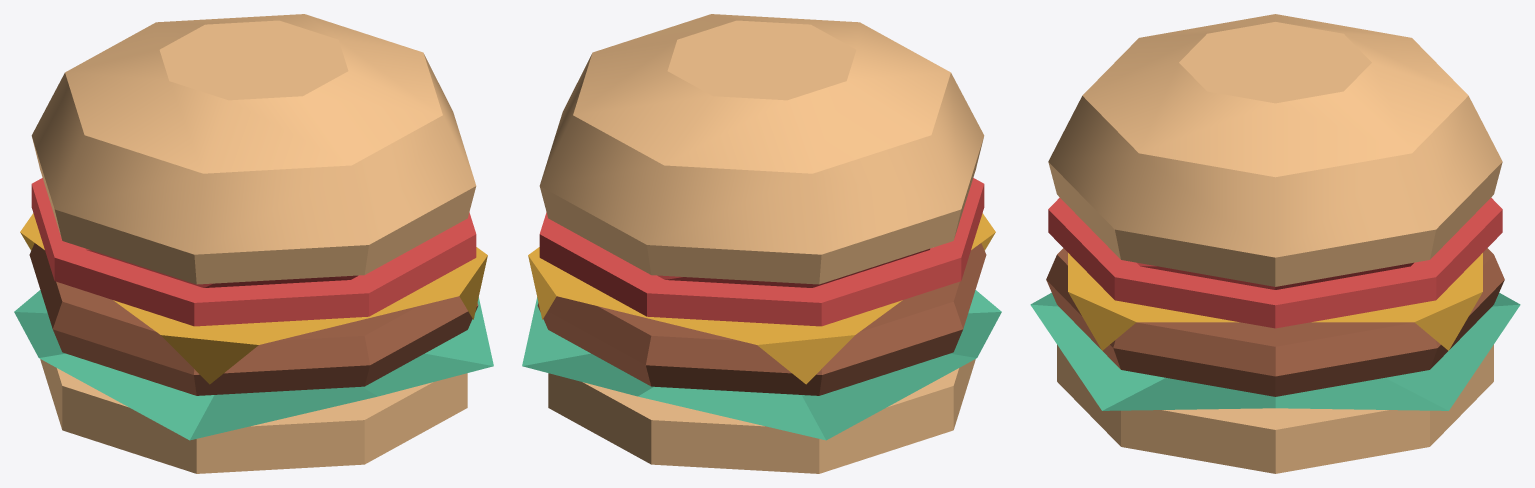
Rendered from burger.obj.
The picture shows the model from 3 angles, left to right: view 1: azimuth 30°, elevation 25°; view 2: azimuth 150°, elevation 25°; view 3: azimuth 270°, elevation 25°; orthographic projection.
Visible parts, largest first — view 1: bunTop, patty, bunBottom, tomato, salad, cheese; view 2: bunTop, patty, bunBottom, tomato, salad, cheese; view 3: bunTop, patty, tomato, bunBottom, salad, cheese.
Part boxes in pixels (bbox=[...]): bunTop: bbox=[31, 14, 476, 284]; patty: bbox=[29, 243, 478, 395]; bunBottom: bbox=[40, 359, 467, 473]; tomato: bbox=[31, 178, 476, 326]; salad: bbox=[14, 290, 493, 440]; cheese: bbox=[20, 213, 487, 384]; bunTop: bbox=[539, 14, 984, 284]; patty: bbox=[537, 243, 986, 395]; bunBottom: bbox=[548, 359, 975, 473]; tomato: bbox=[539, 178, 984, 326]; salad: bbox=[522, 290, 1001, 440]; cheese: bbox=[528, 213, 995, 384]; bunTop: bbox=[1048, 14, 1502, 286]; patty: bbox=[1046, 248, 1504, 396]; tomato: bbox=[1048, 197, 1502, 328]; bunBottom: bbox=[1057, 344, 1493, 473]; salad: bbox=[1030, 292, 1520, 410]; cheese: bbox=[1068, 253, 1482, 350].
Size of the model in its own units: 0.4041 by 0.29 by 0.4041.
